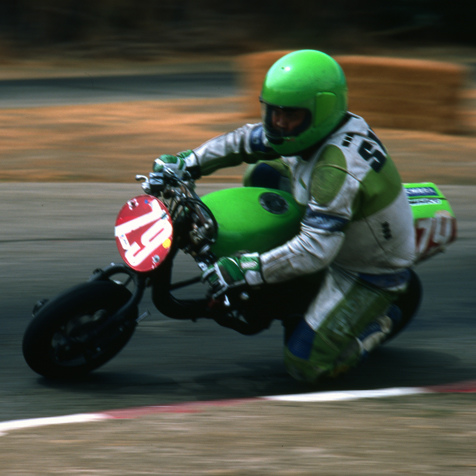person: (152, 48, 424, 390)
